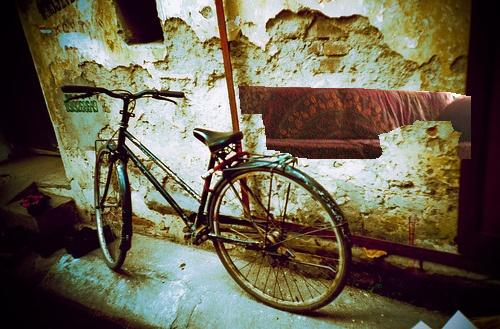tampered: (239, 86, 471, 159)
